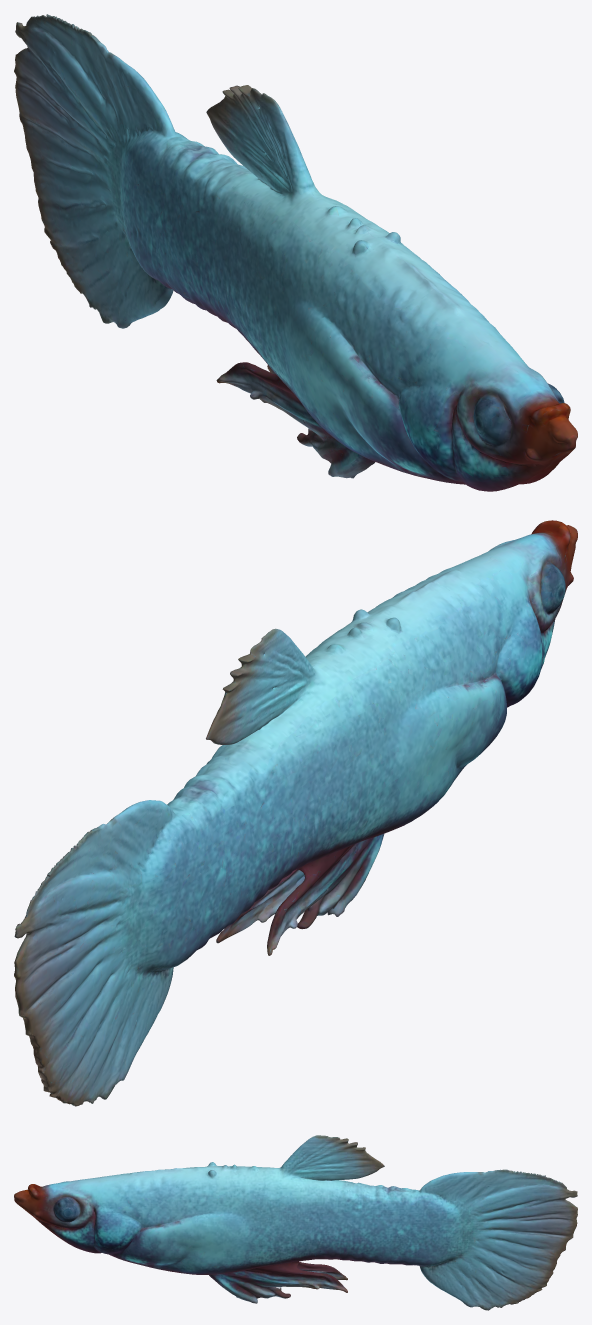
Rendered from guppy_female_mesh.glb.
The picture shows the model from 3 angles, top to bottom: view 1: azimuth 30°, elevation 25°; view 2: azimuth 150°, elevation 25°; view 3: azimuth 270°, elevation 25°; orthographic projection. The views are drawn at different scales.
Visible parts, largest first — view 1: world; view 2: world; view 3: world.
Part boxes in pixels (x1,y1,x2,y2): world: [14, 14, 577, 491]; world: [14, 520, 577, 1106]; world: [14, 1135, 577, 1310].
Bounding box in the file's own units: 0.1368 × 0.3432 × 1.
1 material, 1 textured.
